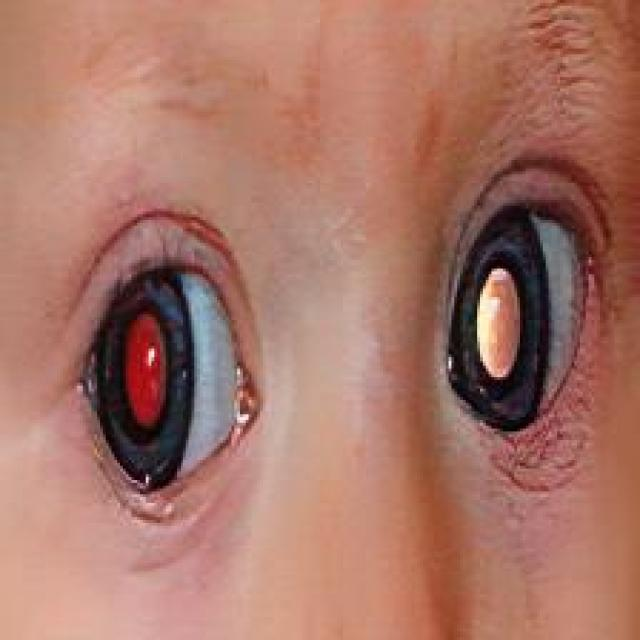reflexo-alterado: (405, 181, 604, 447)
reflexo-normal: (65, 226, 278, 510)
